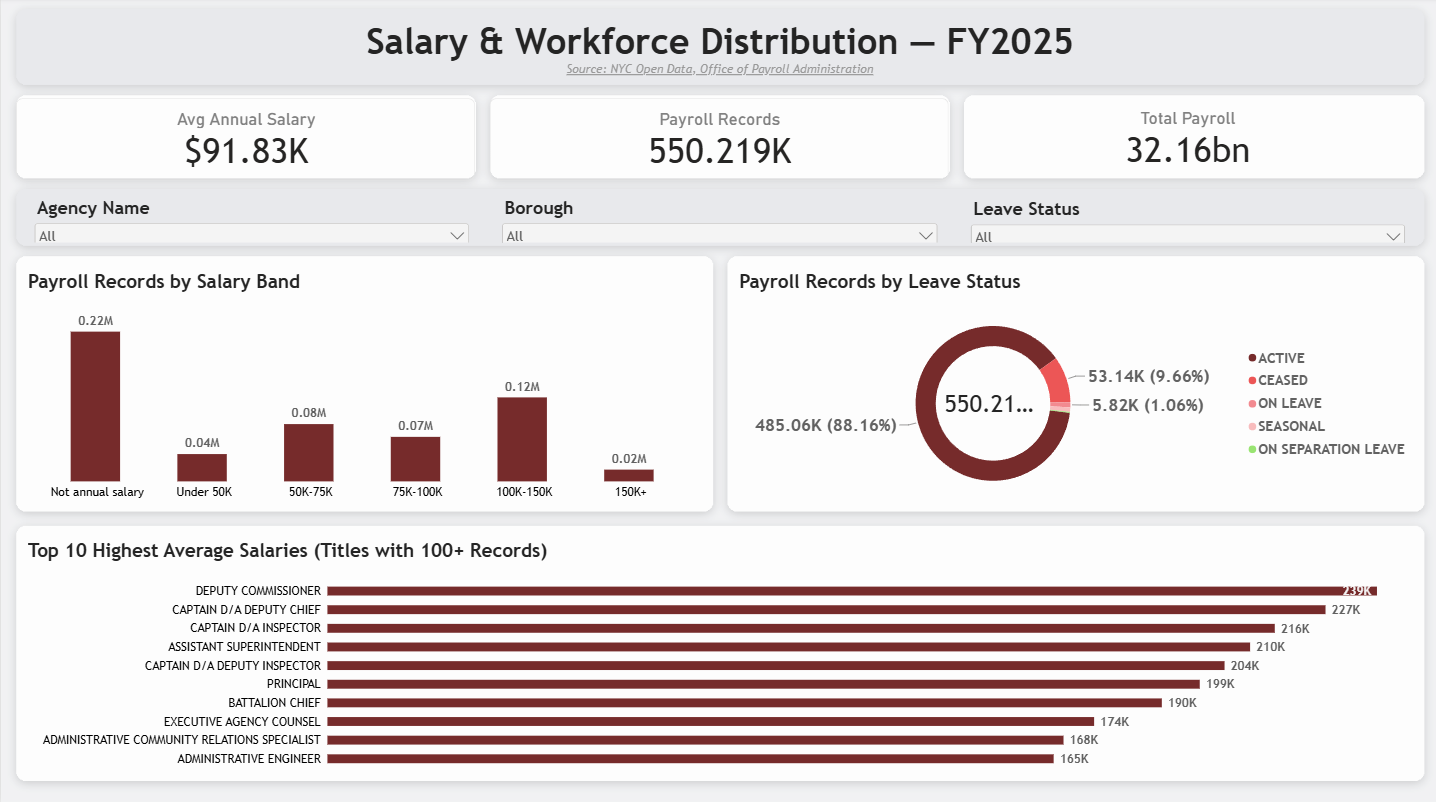

Layout of this report page (visuals, bound fields, positions):
{"tool":"powerbi","page":{"name":"Salary & Workforce","canvas":[1920,1080],"ordinal":2},"visuals":[{"type":"textbox","box":[47.9,31.3,1823.9,90.2],"z":0},{"type":"cardVisual","title":"Card1","fields":{"Data":["Payroll.Avg Annual Salary"]},"box":[20.6,135.8,613,110],"z":1000},{"type":"cardVisual","title":"Card2","fields":{"Data":["Payroll.Payroll Records"]},"box":[653,135.8,613,110],"z":2000},{"type":"cardVisual","title":"Card3","fields":{"Data":["Payroll.Total Payroll"]},"box":[1279.3,135.7,613,110],"z":3000},{"type":"clusteredColumnChart","title":"Payroll Records by Salary Band","fields":{"Category":["Payroll.Salary Band"],"Y":["Payroll.Payroll Records"]},"box":[20,350,930,340],"z":5000},{"type":"clusteredBarChart","title":"Top 10 Highest Average Salaries (Titles with 100+ Records)","fields":{"Category":["Payroll.Title Description"],"Y":["Payroll.Avg Salary (100+ Records)"]},"box":[20.6,710.1,1880,340],"z":6000},{"type":"donutChart","title":"Payroll Records by Leave Status","fields":{"Category":["Payroll.Leave Status"],"Y":["Payroll.Payroll Records"]},"box":[970,350,930,340],"z":7000},{"type":"slicer","title":"Slicer1","fields":{"Values":["Payroll.Agency Name"]},"box":[40.1,266.9,589.5,61],"z":9000},{"type":"slicer","title":"Slicer2","fields":{"Values":["Payroll.Borough"]},"box":[664.5,266.9,591.3,61],"z":10000},{"type":"slicer","title":"Slicer3","fields":{"Values":["Payroll.Leave Status"]},"box":[1290.7,268.6,589.5,59.3],"z":11000}]}

Visuals, with their boxes in screenshot pixels (x1, y1, x2, y2), scaled from the page's 1920x1080 canvas onto the 1436x802 screenshot:
textbox: box=[36, 23, 1400, 90]
"Card1" cardVisual: box=[15, 101, 474, 183]
"Card2" cardVisual: box=[488, 101, 947, 183]
"Card3" cardVisual: box=[957, 101, 1415, 182]
"Payroll Records by Salary Band" clusteredColumnChart: box=[15, 260, 711, 512]
"Top 10 Highest Average Salaries (Titles with 100+ Records)" clusteredBarChart: box=[15, 527, 1421, 780]
"Payroll Records by Leave Status" donutChart: box=[725, 260, 1421, 512]
"Slicer1" slicer: box=[30, 198, 471, 243]
"Slicer2" slicer: box=[497, 198, 939, 243]
"Slicer3" slicer: box=[965, 199, 1406, 243]
